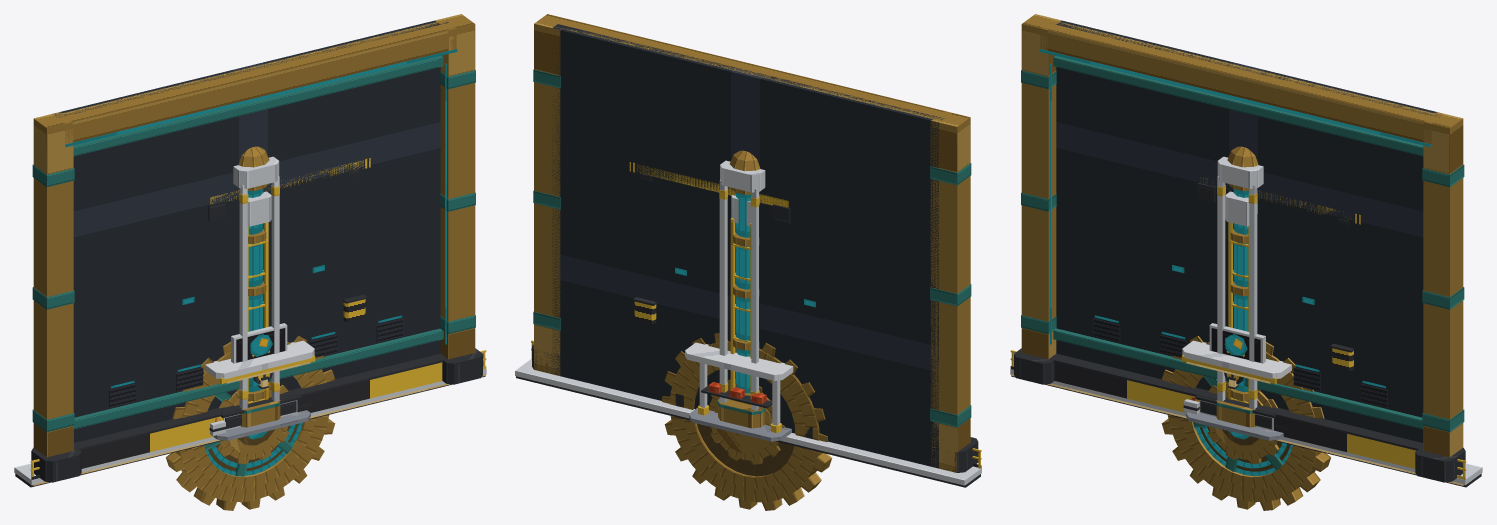
File: gear-props.glb
The picture shows the model from 3 angles, left to right: view 1: azimuth 30°, elevation 25°; view 2: azimuth 150°, elevation 25°; view 3: azimuth 330°, elevation 25°; orthographic projection.
Parts seen in each view (by area): view 1: Wall, Lintel, Pylon, Pylon.001, Plinth, Rail.001, Rail, PlinthTop, Roof, Post.007, Post.009, Deck.002 (+17 smaller); view 2: Wall, Pylon, Pylon.001, Lintel, Deck.002, Roof, Post.008, Post.006, Deck, Cap, Trim, Base (+9 smaller); view 3: Wall, Lintel, Pylon.001, Pylon, Plinth, Rail.001, Rail, PlinthTop, Roof, Post.009, Post.007, Deck.002 (+17 smaller).
Part boxes in pixels (left/top/right/bottom): Wall: left=52, top=20, right=448, bottom=442; Lintel: left=54, top=22, right=456, bottom=144; Pylon: left=33, top=112, right=73, bottom=457; Pylon.001: left=435, top=14, right=475, bottom=359; Plinth: left=81, top=362, right=442, bottom=468; Rail.001: left=73, top=56, right=443, bottom=156; Rail: left=73, top=328, right=443, bottom=429; PlinthTop: left=73, top=353, right=447, bottom=450; Roof: left=205, top=340, right=314, bottom=379; Post.007: left=239, top=185, right=247, bottom=409; Post.009: left=271, top=176, right=279, bottom=401; Deck.002: left=14, top=369, right=486, bottom=485; Wall: left=552, top=24, right=944, bottom=468; Pylon: left=930, top=112, right=970, bottom=472; Pylon.001: left=534, top=14, right=573, bottom=375; Lintel: left=556, top=20, right=951, bottom=120; Deck.002: left=515, top=359, right=981, bottom=485; Roof: left=685, top=342, right=793, bottom=380; Post.008: left=719, top=180, right=727, bottom=402; Post.006: left=751, top=188, right=758, bottom=410; Deck: left=689, top=407, right=791, bottom=441; Cap: left=720, top=160, right=765, bottom=192; Trim: left=516, top=376, right=980, bottom=487; Base: left=718, top=399, right=764, bottom=428; Wall: left=1056, top=20, right=1441, bottom=442; Lintel: left=1040, top=22, right=1442, bottom=144; Pylon.001: left=1423, top=112, right=1463, bottom=457; Pylon: left=1021, top=14, right=1061, bottom=359; Plinth: left=1054, top=362, right=1415, bottom=468; Rail.001: left=1053, top=56, right=1423, bottom=156; Rail: left=1053, top=328, right=1423, bottom=429; PlinthTop: left=1049, top=353, right=1423, bottom=450; Roof: left=1182, top=340, right=1291, bottom=379; Post.009: left=1249, top=185, right=1257, bottom=409; Post.007: left=1217, top=176, right=1225, bottom=401; Deck.002: left=1010, top=369, right=1482, bottom=485.
Size of the model in its own units: 27.2 by 24.99 by 3.74.
Materials: 2 (2 with a texture image).
